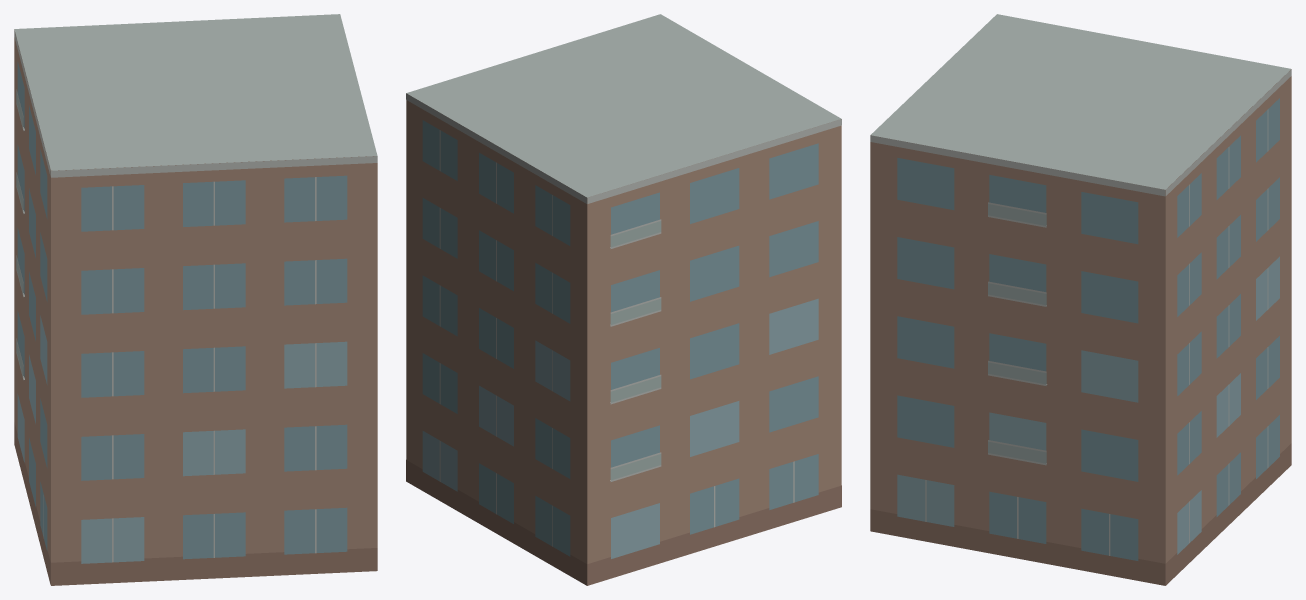
File: survey-upis-32531734.glb
3 views of the same model, side by side, from view 1: azimuth 30°, elevation 25°; view 2: azimuth 150°, elevation 25°; view 3: azimuth 270°, elevation 25° (orthographic). The views are drawn at different scales.
Parts seen in each view (by area): view 1: survey-upis-32531734.tmp; view 2: survey-upis-32531734.tmp; view 3: survey-upis-32531734.tmp.
Part boxes in pixels (bbox=[...]): survey-upis-32531734.tmp: bbox=[14, 14, 377, 585]; survey-upis-32531734.tmp: bbox=[406, 14, 841, 585]; survey-upis-32531734.tmp: bbox=[870, 14, 1291, 585].
Bounding box in the file's own units: 13.72 × 14.4 × 13.89.
